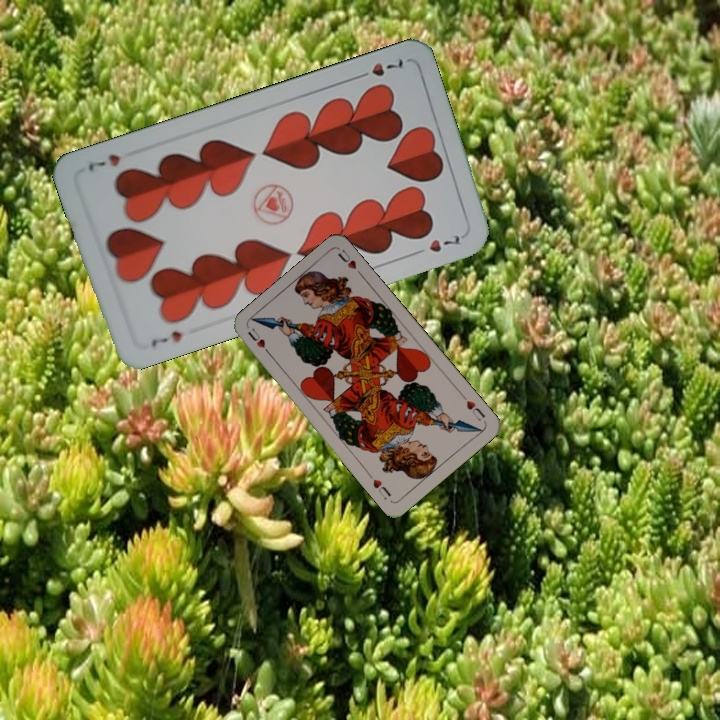H7: (351, 54, 406, 83), (147, 326, 184, 350)
HU: (458, 390, 488, 424), (244, 324, 274, 358)
